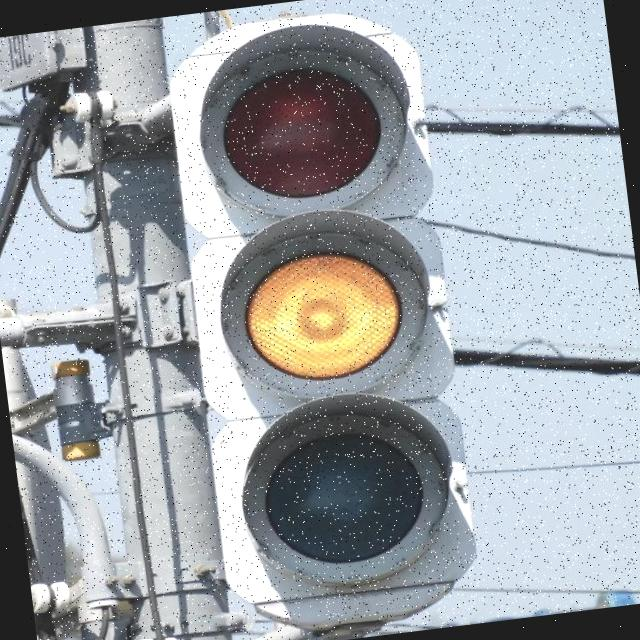yellow_light: (234, 220, 399, 392)
